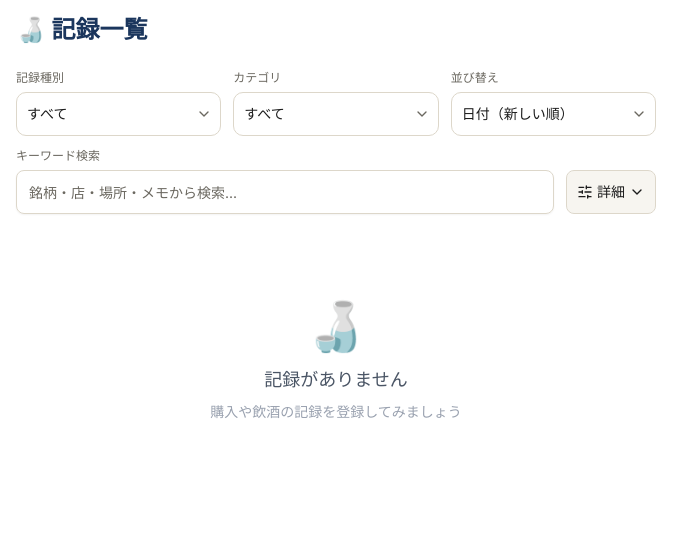
Test: 絞り込み条件の永続化（認証込みの統合） › 保存が無ければ既定の条件で表示する
This screenshot has width=673, height=539.
expect the dropdown with test id "filter-record-type" is shown: met, box [16,92,221,136]
What coordinates should you click on to do the following:
click the button with test id "filter-advanced-toggle"
I would click on:
 (611, 192)
Its box is [566,170,656,214].
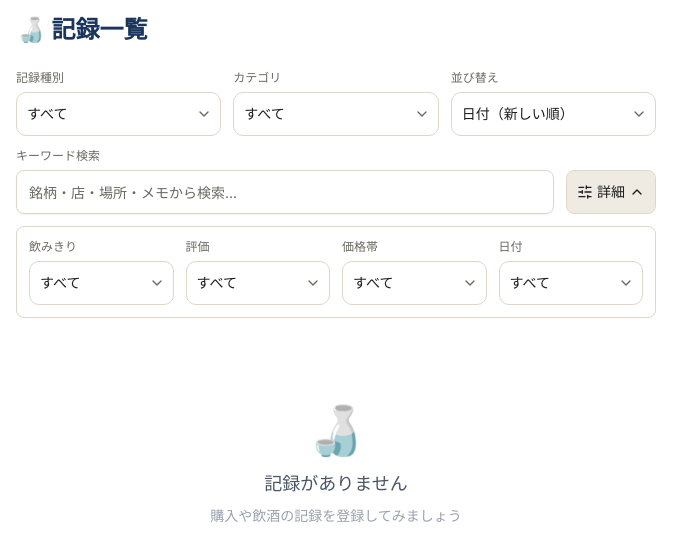
expect the dropdown with test id "filter-rating" shows "すべて": met, box [186,261,330,305]
